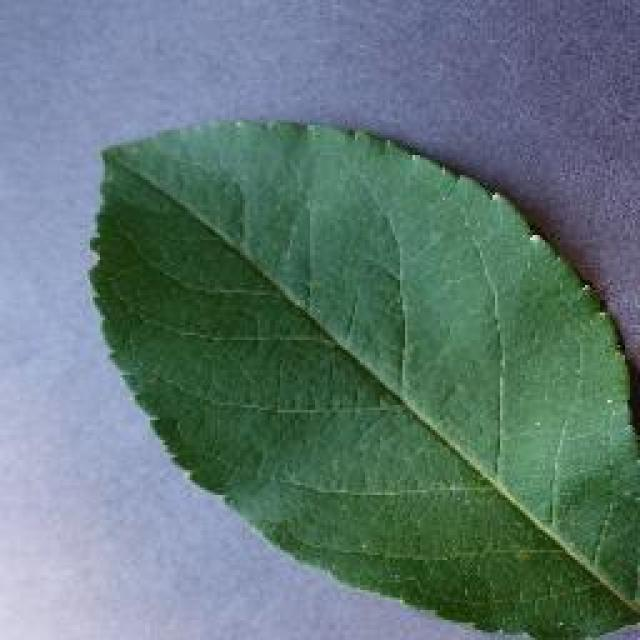apple healthy: (85, 112, 637, 638)
